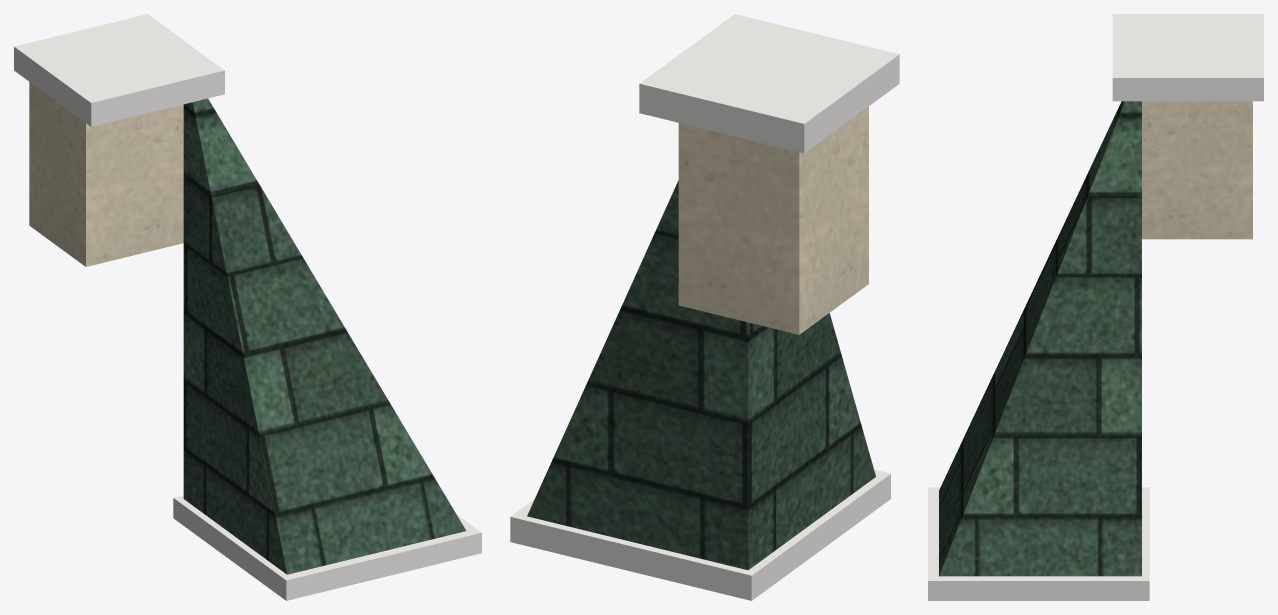
File: mansard_corner.glb
3 renders of one model, left to right at view 1: azimuth 30°, elevation 25°; view 2: azimuth 150°, elevation 25°; view 3: azimuth 270°, elevation 25°, orthographic. The views are drawn at different scales.
Parts seen in each view (by area): view 1: mansard_corner_shingle, mansard_corner_trim, mansard_corner_stucco; view 2: mansard_corner_shingle, mansard_corner_trim, mansard_corner_stucco; view 3: mansard_corner_shingle, mansard_corner_trim, mansard_corner_stucco.
Part boxes in pixels (left/top/right/bottom): mansard_corner_shingle: left=183, top=98, right=466, bottom=574; mansard_corner_trim: left=14, top=14, right=481, bottom=600; mansard_corner_stucco: left=29, top=82, right=183, bottom=266; mansard_corner_shingle: left=527, top=180, right=875, bottom=570; mansard_corner_trim: left=510, top=14, right=899, bottom=600; mansard_corner_stucco: left=678, top=106, right=868, bottom=334; mansard_corner_shingle: left=939, top=101, right=1141, bottom=576; mansard_corner_trim: left=928, top=14, right=1263, bottom=600; mansard_corner_stucco: left=1142, top=101, right=1252, bottom=239.
Bounding box in the file's own units: 0.91 × 1.33 × 0.91.
Materials: 3 (2 with a texture image).
